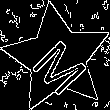M_NE: (24, 24, 91, 92)
